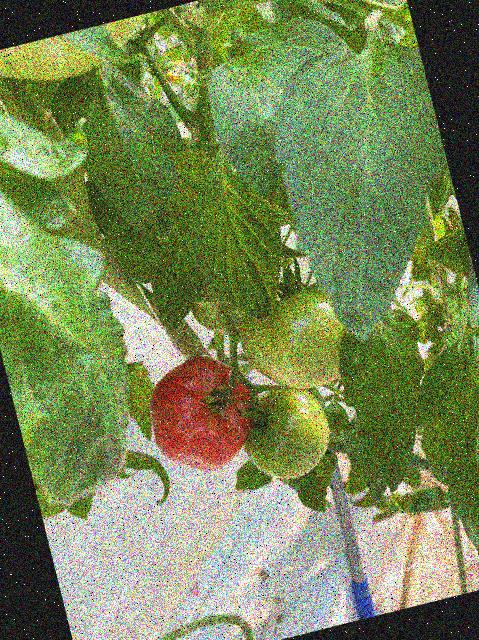b_fully_ripened: (137, 345, 266, 483)
b_green: (0, 8, 180, 96), (231, 283, 360, 403), (230, 376, 339, 489)
